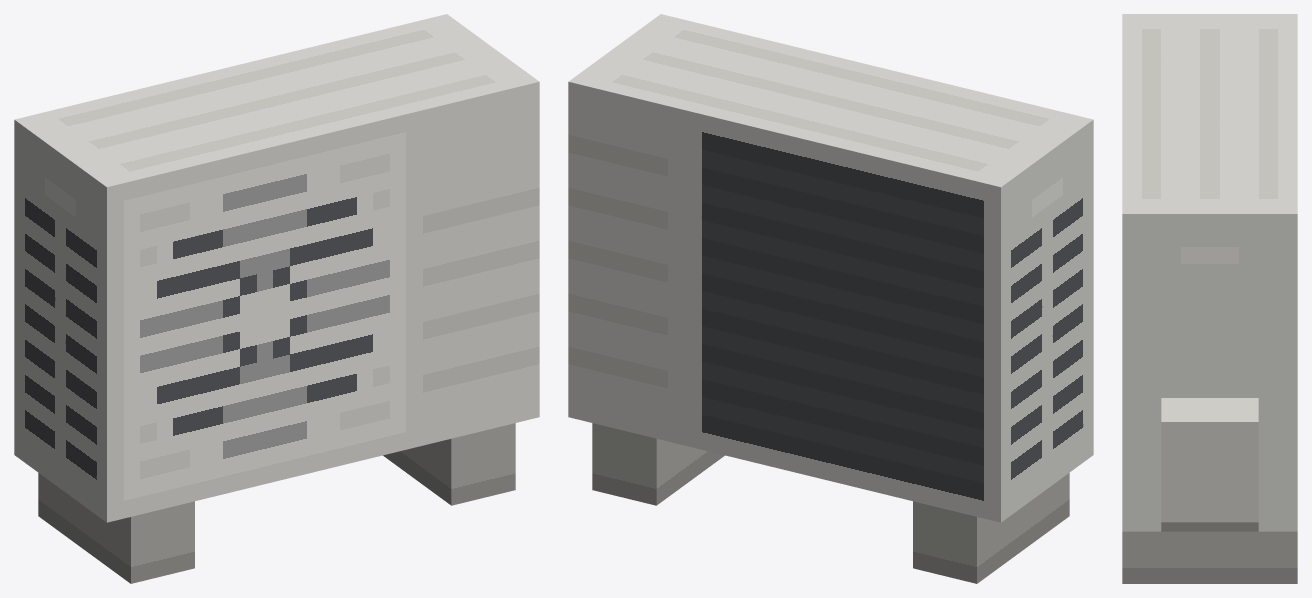
Rendered from outdoorUnit.glb.
The picture shows the model from 3 angles, left to right: view 1: azimuth 30°, elevation 25°; view 2: azimuth 150°, elevation 25°; view 3: azimuth 270°, elevation 25°; orthographic projection. The views are drawn at different scales.
Visible parts, largest first — view 1: Cube; view 2: Cube; view 3: Cube.
Part boxes in pixels (<box>): Cube: <box>14,14,539,583</box>; Cube: <box>568,14,1093,583</box>; Cube: <box>1122,14,1297,583</box>.
Size of the model in its own units: 0.7 by 0.6 by 0.25.
1 material, 1 textured.
